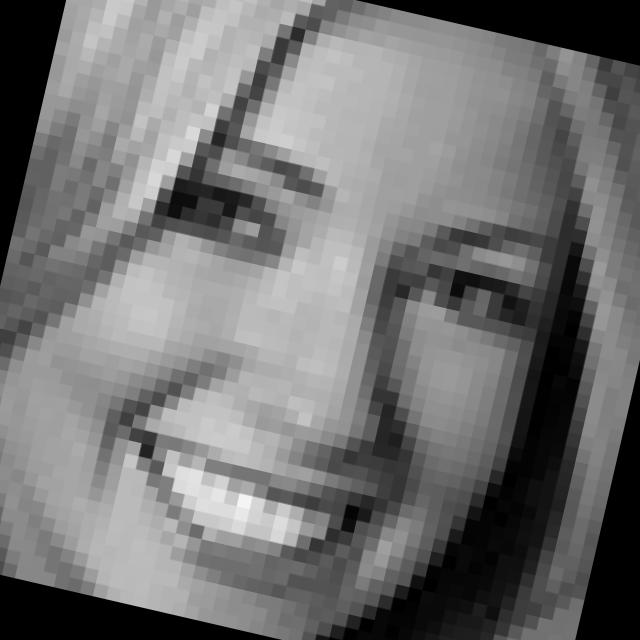happy: (71, 111, 570, 640)
